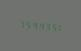five: (47, 20, 52, 32), (23, 18, 28, 29)
four: (29, 19, 34, 30), (35, 19, 40, 30)
one: (53, 21, 58, 32)
seven: (17, 18, 22, 29)
three: (41, 20, 46, 31)
